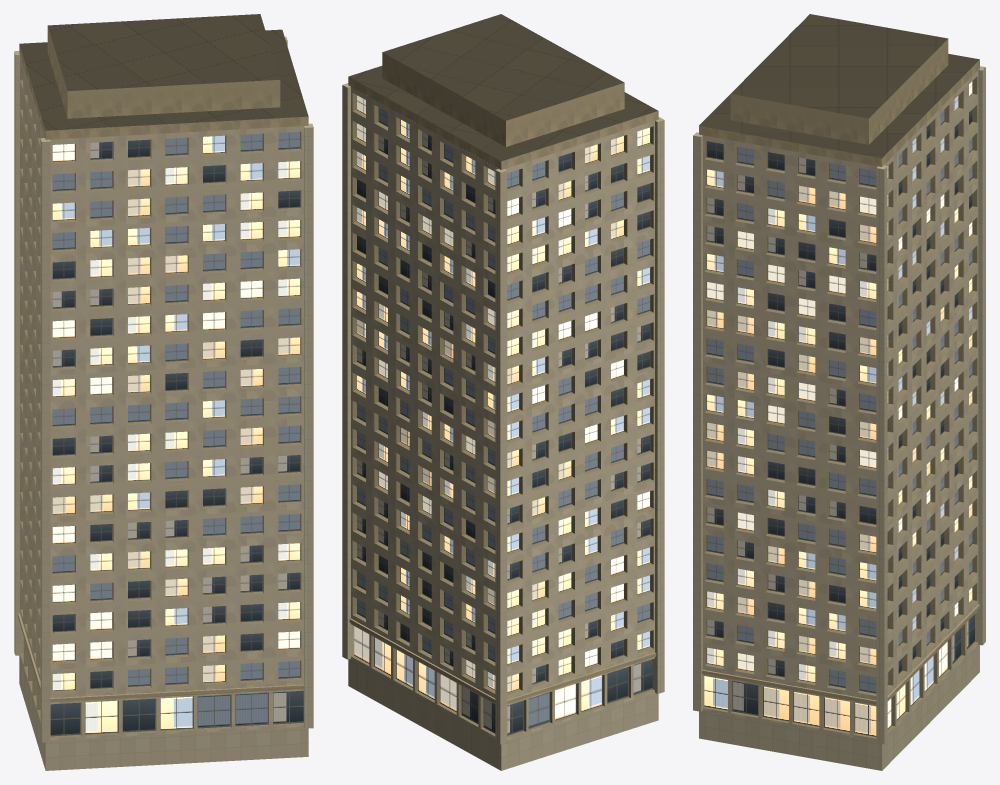
File: k39w3_hochhaus_vulkan.glb
The picture shows the model from 3 angles, left to right: view 1: azimuth 30°, elevation 25°; view 2: azimuth 150°, elevation 25°; view 3: azimuth 270°, elevation 25°; orthographic projection. The views are drawn at different scales.
Parts seen in each view (by area): view 1: k39w3_hochhaus_vulkan; view 2: k39w3_hochhaus_vulkan; view 3: k39w3_hochhaus_vulkan.
Boxes of the visible parts, left/top/right/bottom form: k39w3_hochhaus_vulkan: left=14, top=14, right=313, bottom=770; k39w3_hochhaus_vulkan: left=342, top=14, right=664, bottom=770; k39w3_hochhaus_vulkan: left=693, top=14, right=985, bottom=770.
Bounding box in the file's own units: 33.22 × 72.7 × 30.18.
Materials: 3 (3 with a texture image).
